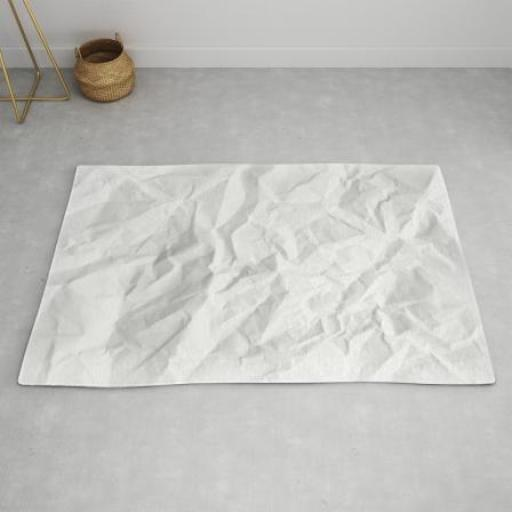paper: (14, 138, 499, 488)
